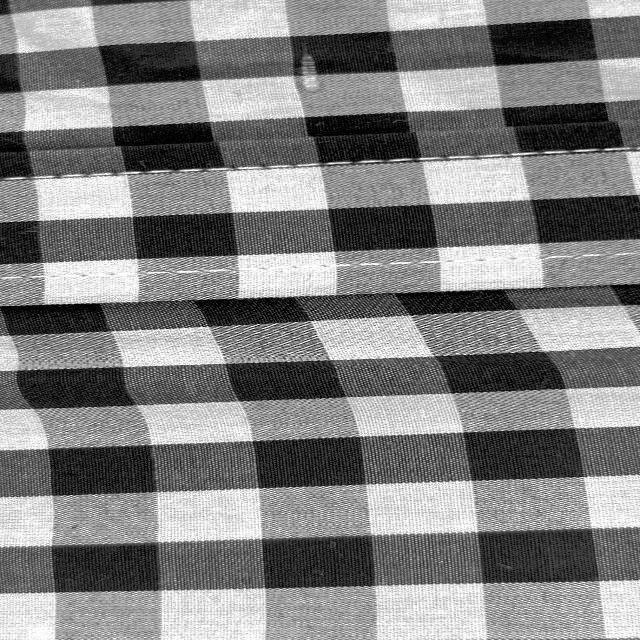Foreign_yarn: (286, 50, 328, 104)
